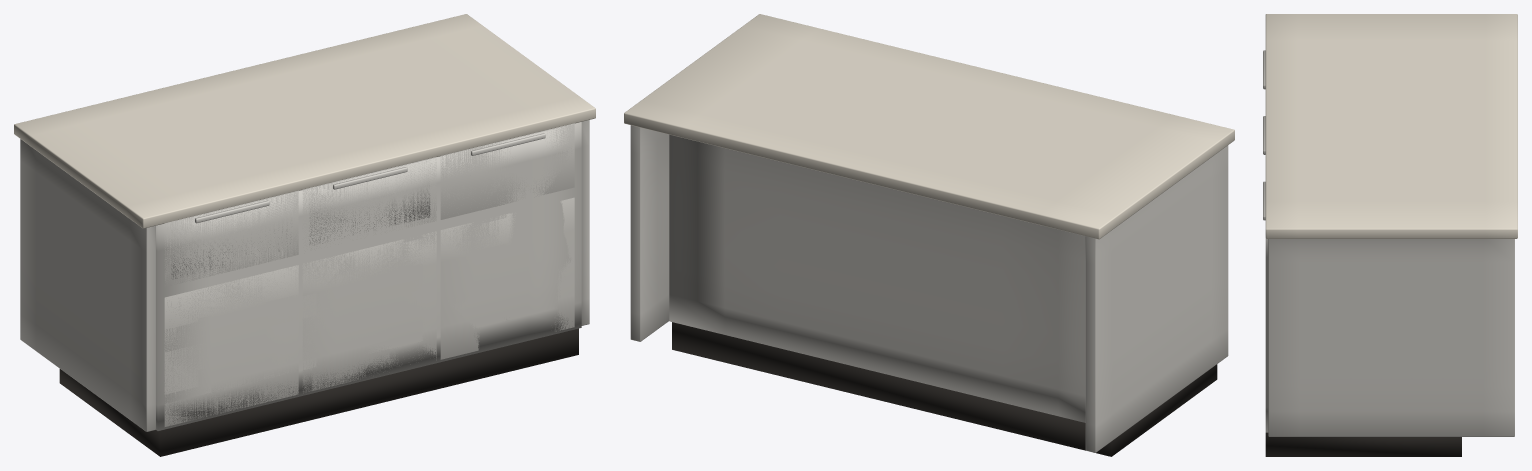
The model's file is ilot.glb.
3 renders of one model, left to right at view 1: azimuth 30°, elevation 25°; view 2: azimuth 150°, elevation 25°; view 3: azimuth 270°, elevation 25°, orthographic. The views are drawn at different scales.
Parts seen in each view (by area): view 1: corps, plan, socle, tiroir_1, tiroir_3, tiroir_2; view 2: corps, plan, socle; view 3: plan, corps, socle.
Part boxes in pixels (box(x1,y1,x2,y2)): corps: box(20, 120, 589, 431); plan: box(14, 14, 595, 228); socle: box(59, 328, 578, 456); tiroir_1: box(164, 190, 298, 287); tiroir_3: box(440, 123, 574, 219); tiroir_2: box(302, 157, 436, 249); corps: box(630, 125, 1228, 452); plan: box(624, 14, 1234, 239); socle: box(672, 322, 1217, 456); plan: box(1265, 14, 1517, 238); corps: box(1265, 238, 1514, 436); socle: box(1265, 432, 1461, 456).
Bounding box in the file's own units: 1.8 × 0.92 × 0.9.
